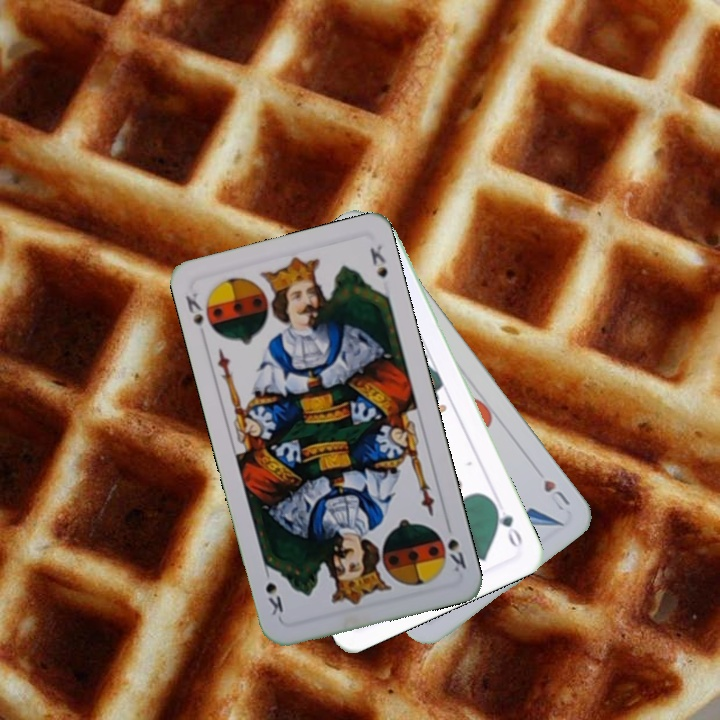GO: (488, 497, 525, 550)
HU: (539, 475, 573, 514)
SK: (181, 288, 218, 337), (443, 534, 469, 575)
